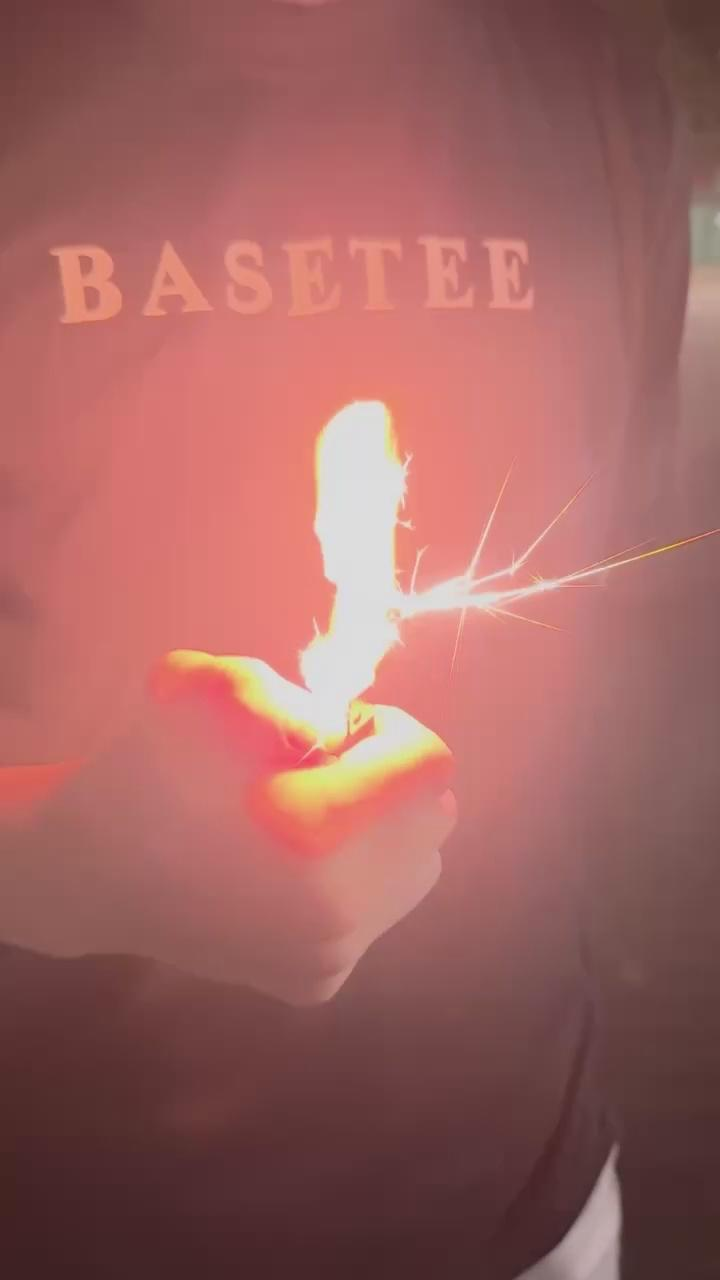Fire: (312, 342, 438, 765)
